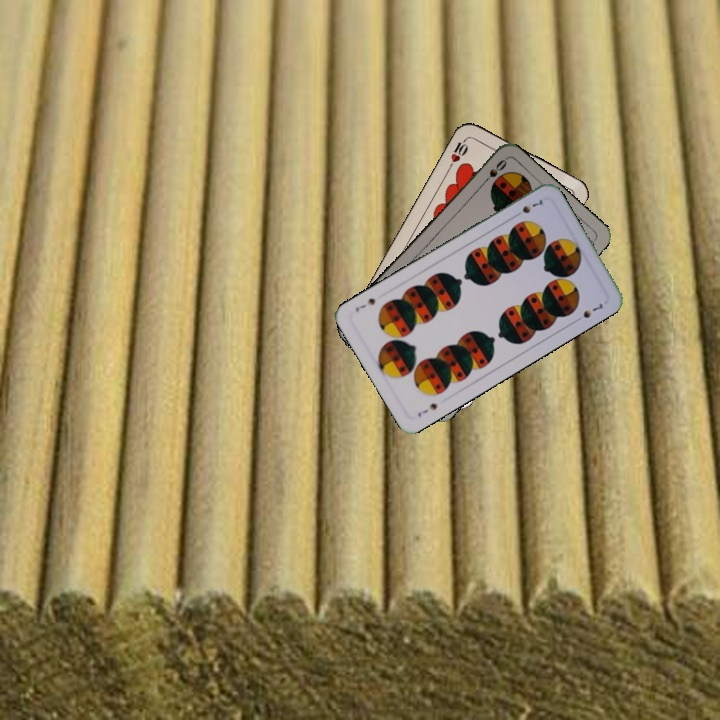H10: (445, 133, 471, 171)
S7: (510, 195, 545, 220), (413, 399, 440, 420)
SO: (477, 155, 509, 188)
